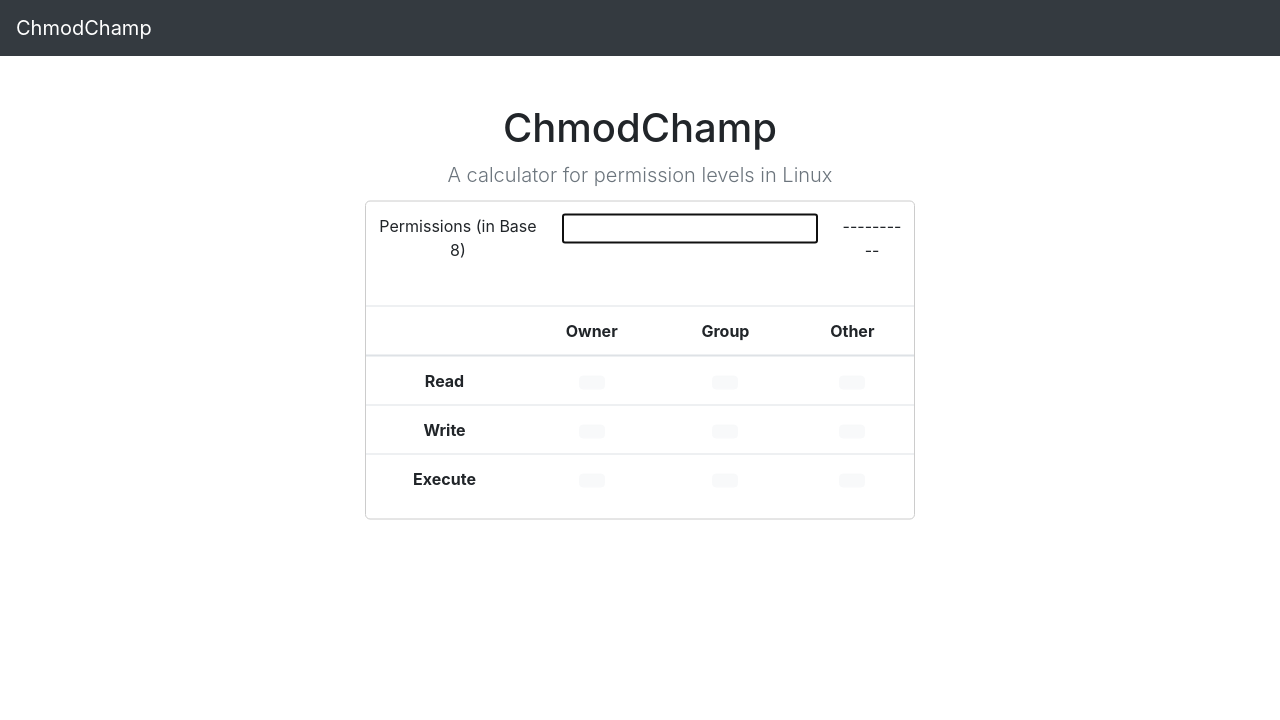
ChmodChamp Core Function Tests › Should correctly update the permission symbols when the input field is changed to a valid value
Type "777" into the field. click: x=690, y=229
box: [562, 214, 818, 244]
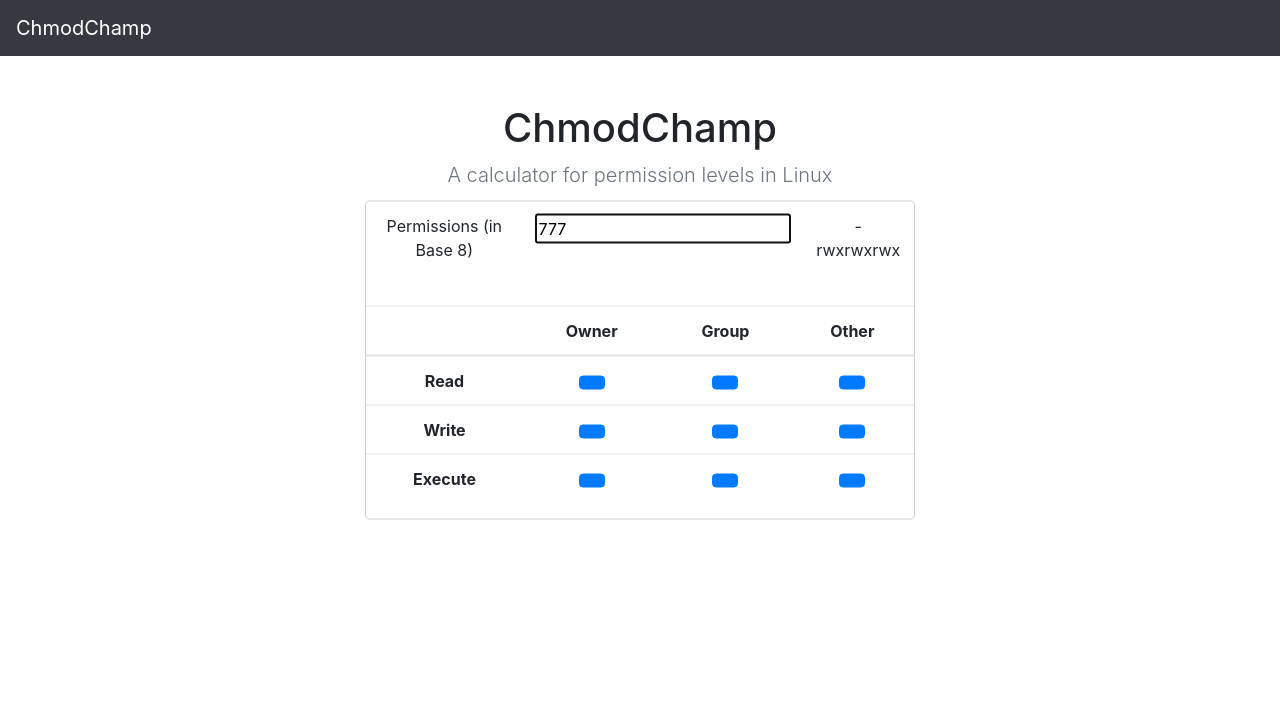
Expected: the text "-rwxrwxrwx" is shown, [814, 214, 902, 262]
